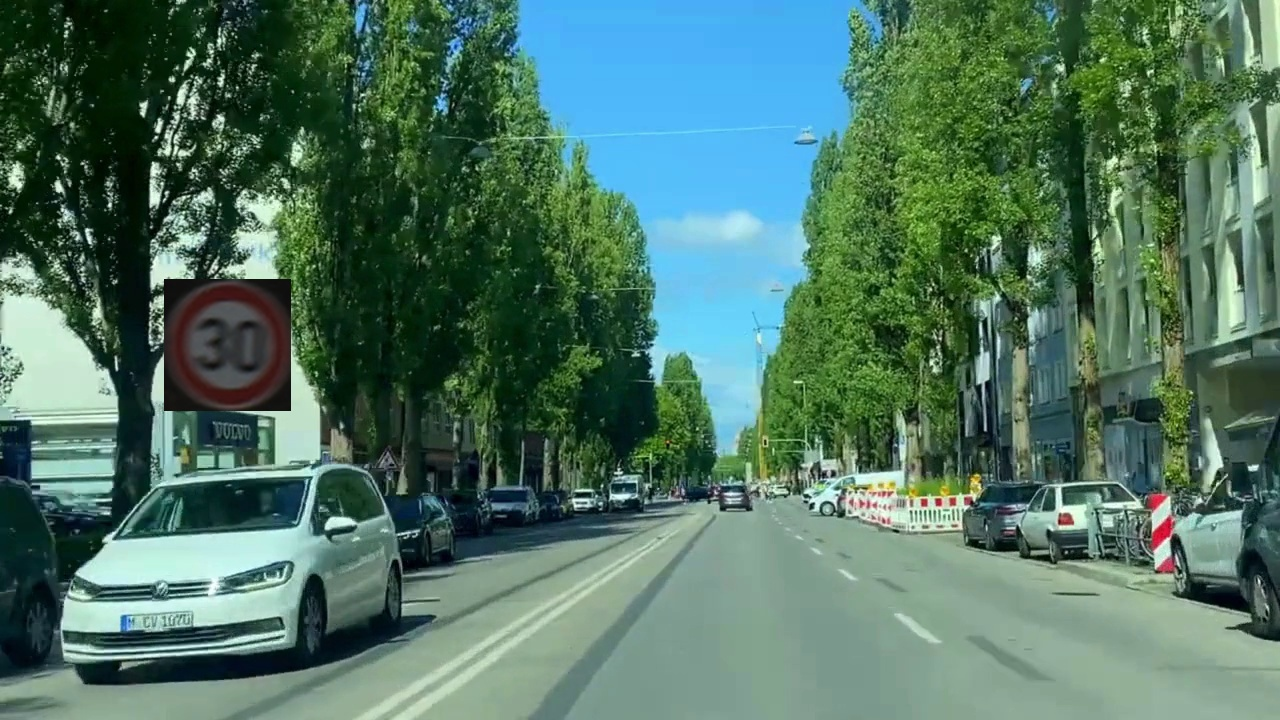Speed 30: (164, 279, 291, 411)
